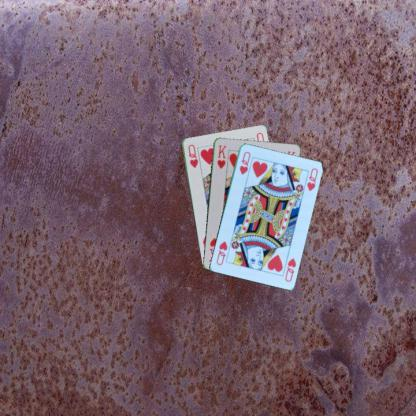Kh: (214, 142, 228, 170)
Qh: (282, 255, 297, 283), (237, 148, 251, 176), (186, 142, 200, 169)
